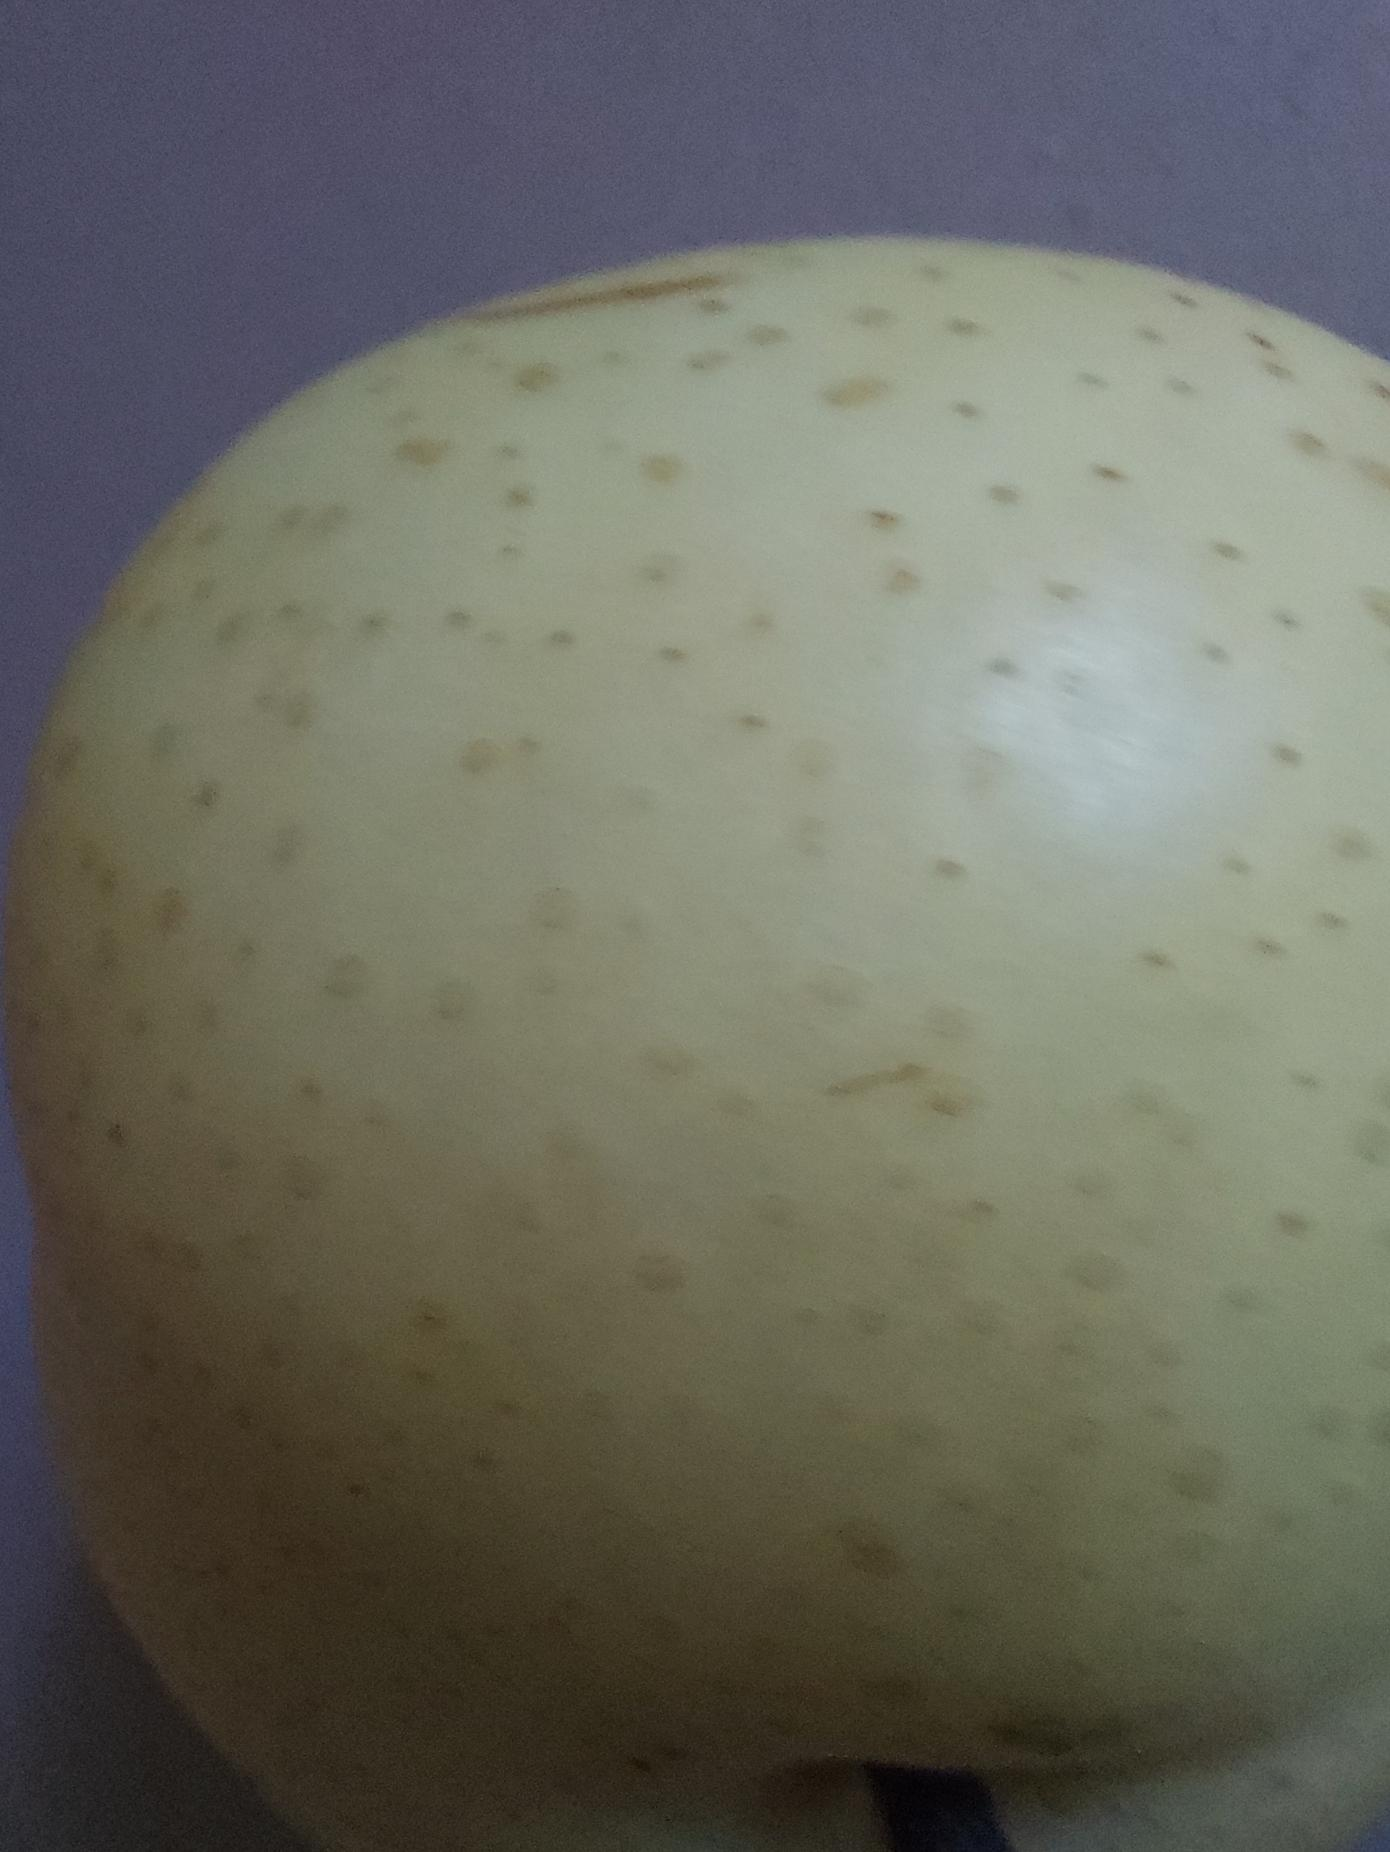Good Pear: (0, 217, 1390, 1852)
